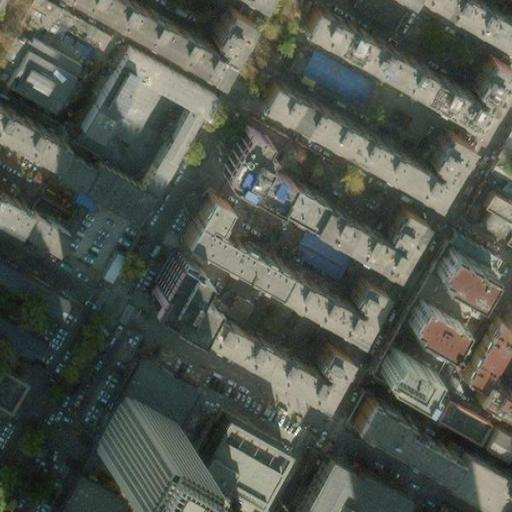building: (174, 189, 378, 337), (251, 69, 467, 199), (342, 233, 491, 420), (297, 0, 512, 125), (44, 357, 189, 512), (70, 0, 248, 82), (72, 39, 211, 138), (195, 311, 345, 402), (171, 394, 286, 512), (347, 389, 457, 474), (307, 200, 426, 273), (197, 412, 288, 501), (84, 389, 172, 476), (213, 119, 292, 209), (141, 258, 211, 340), (134, 101, 195, 190), (78, 159, 153, 222), (442, 454, 512, 512), (454, 317, 510, 388), (289, 452, 355, 512), (294, 46, 364, 102), (0, 188, 65, 247), (427, 243, 489, 300), (433, 0, 512, 44), (403, 295, 460, 346), (378, 349, 431, 397), (475, 189, 512, 252), (427, 389, 480, 432), (277, 177, 323, 220), (469, 380, 512, 425), (481, 115, 512, 177), (98, 247, 129, 285), (35, 41, 73, 69), (475, 422, 507, 454), (0, 365, 22, 410), (498, 297, 512, 330)
